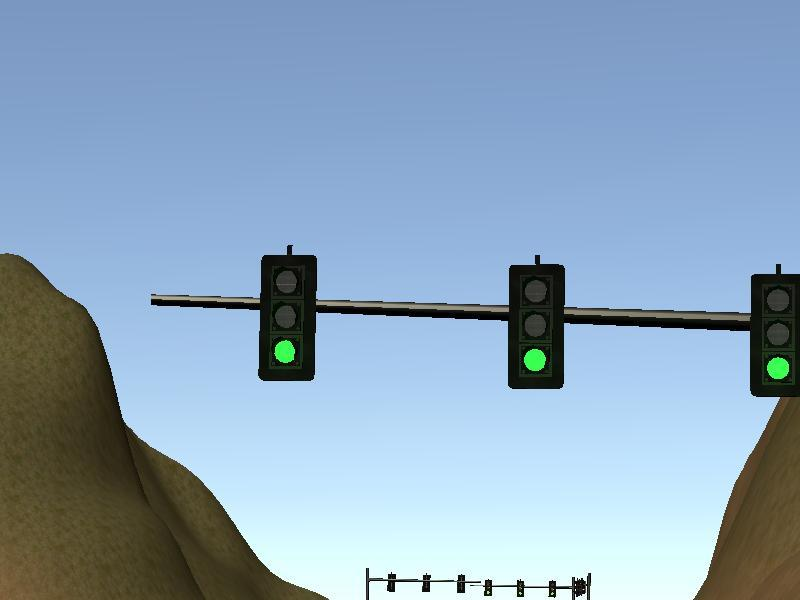Green: (507, 265, 564, 390), (260, 255, 315, 380), (750, 274, 800, 397), (516, 580, 525, 598), (483, 580, 493, 596), (549, 580, 556, 597)
